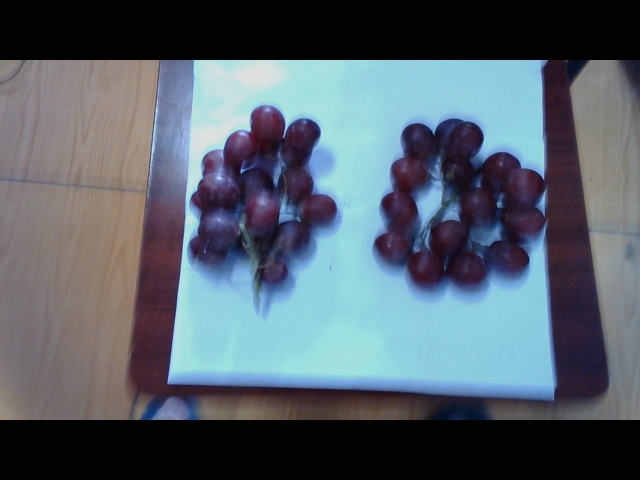grape: (374, 119, 553, 294), (189, 109, 333, 292)
